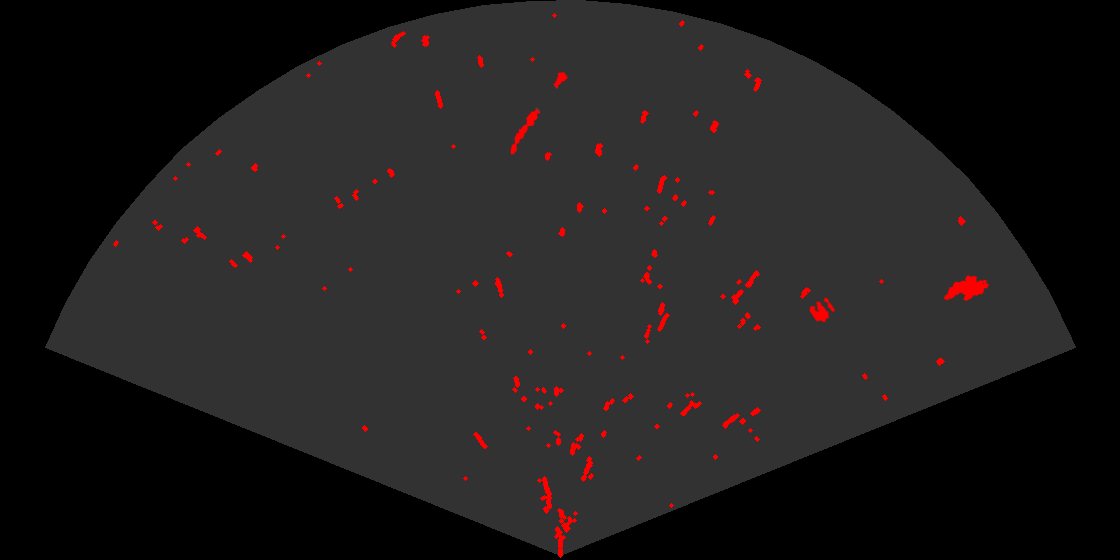AUV: (942, 274, 991, 302)
ball: (808, 296, 837, 324)
chain: (509, 70, 569, 156)
